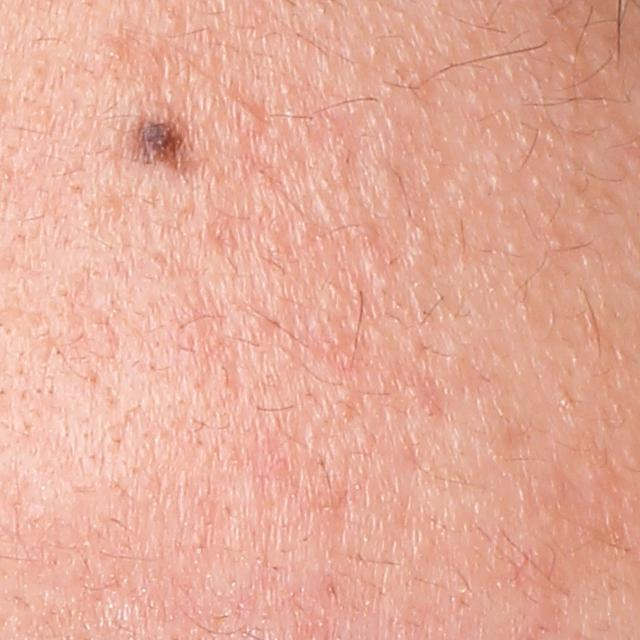comedo: (234, 103, 269, 136)
nevus: (131, 119, 187, 164)
